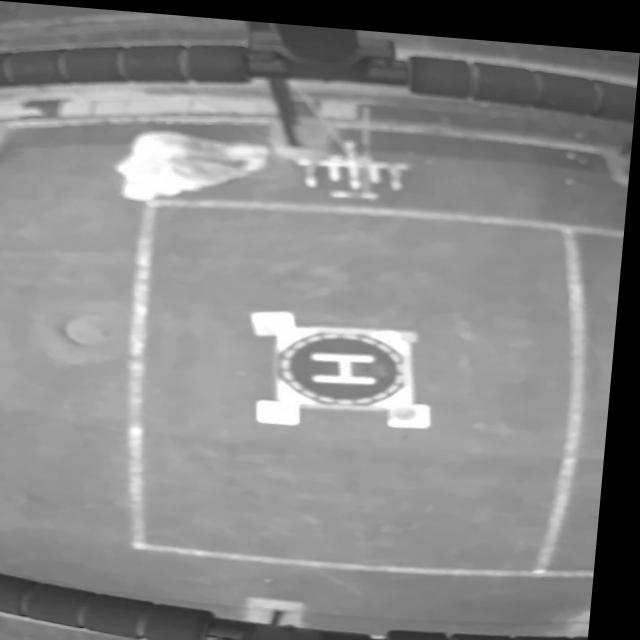Helipad: (315, 345, 384, 378)
